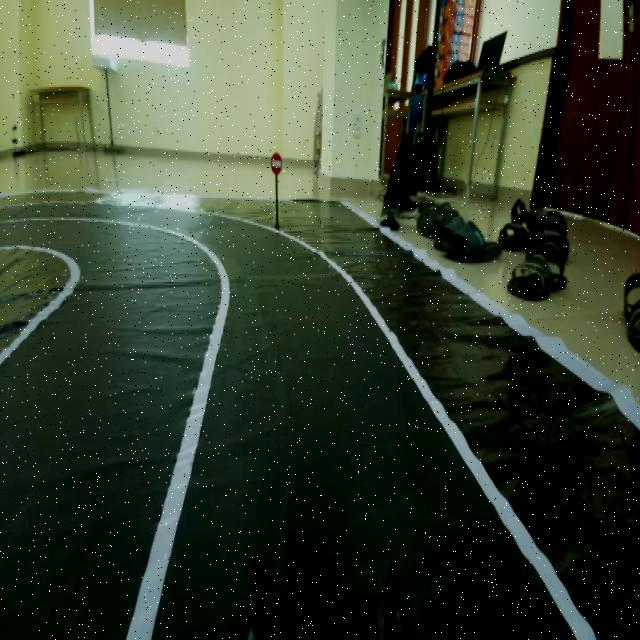no_entry: (266, 151, 284, 179)
